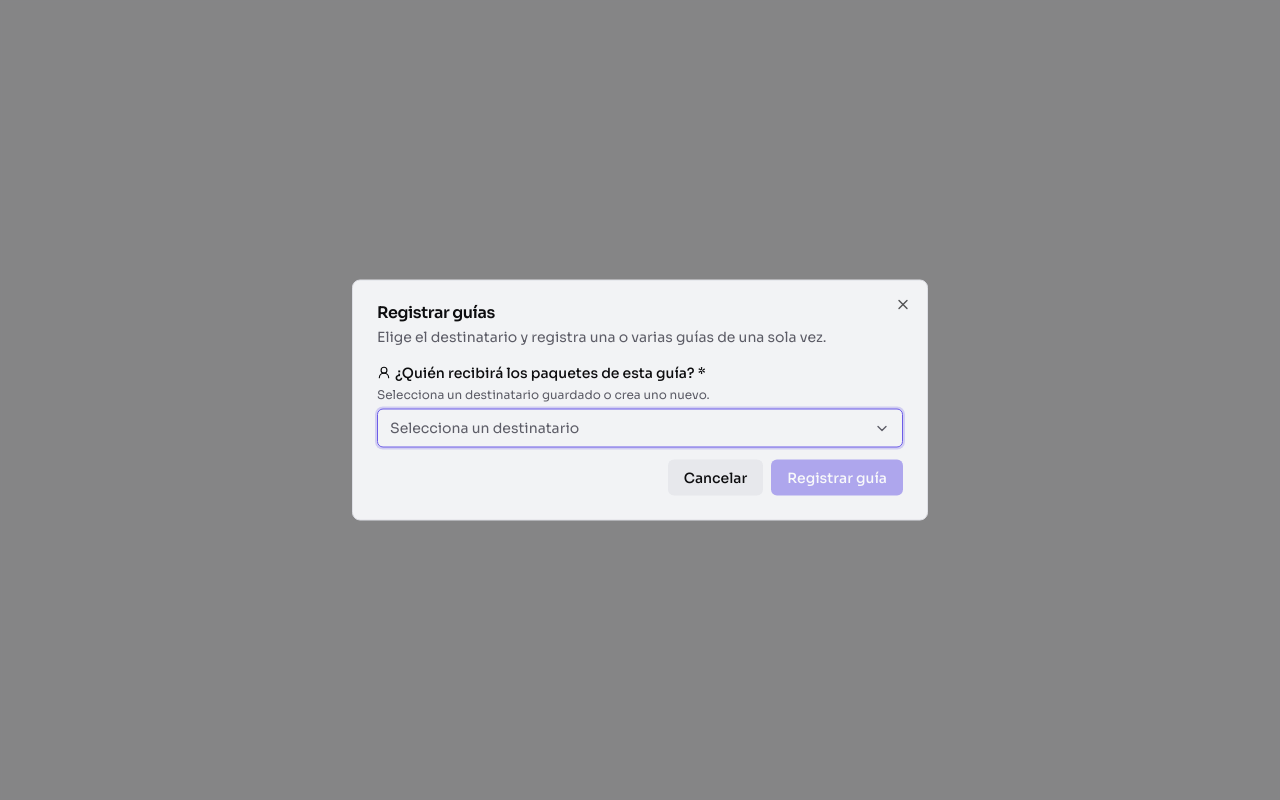
RegistrarMisGuiasDialog · ayuda de número de guía › incluye el disparador de ayuda y el texto breve bajo el campo
Click the button named "quién recibirá": [485, 428] box [377, 408, 903, 448]
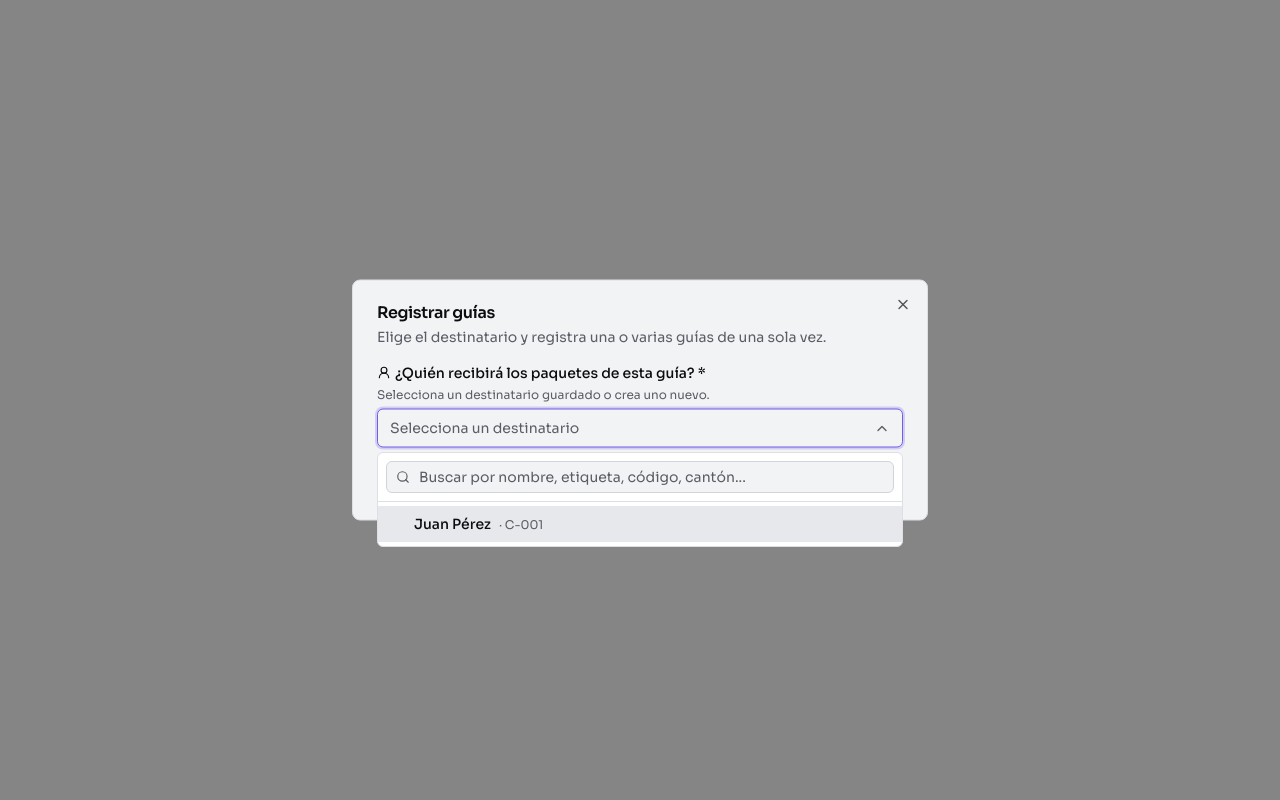
Click the text "Juan Pérez": [452, 524] box [414, 514, 491, 534]
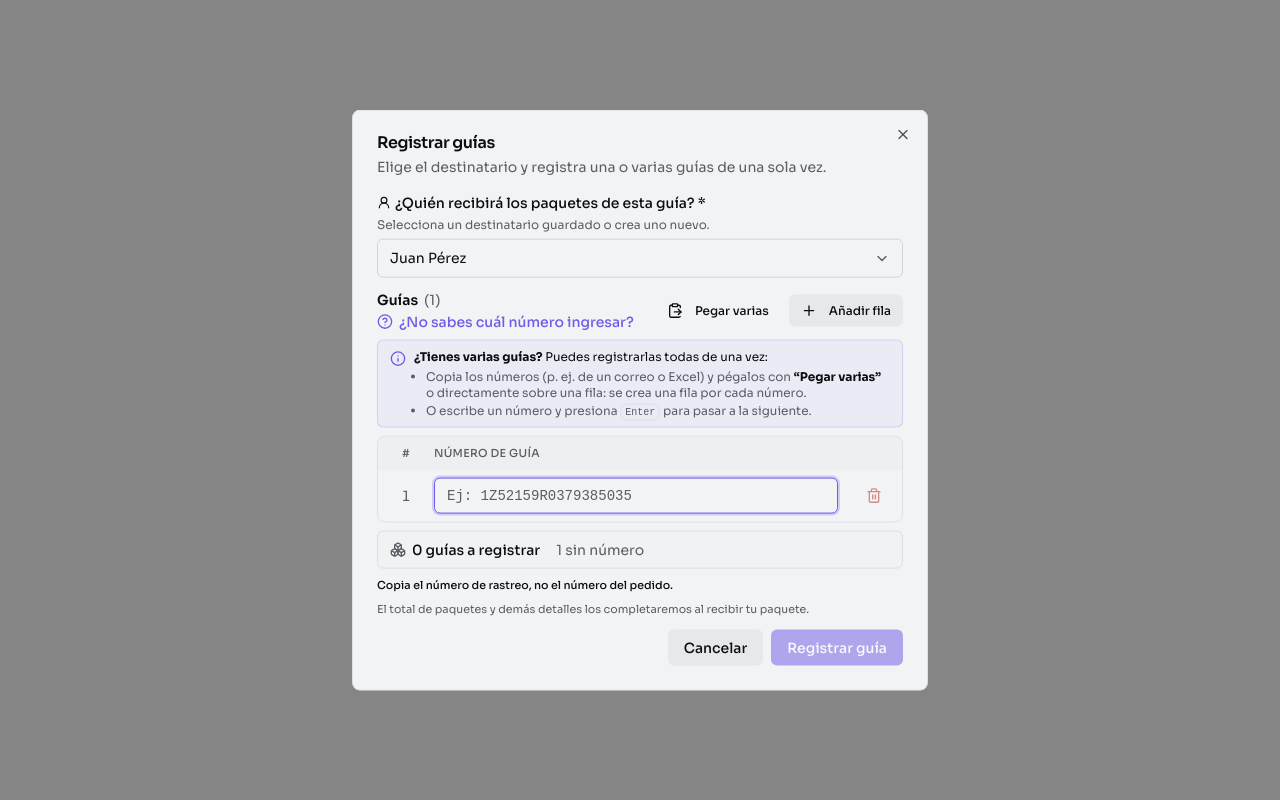
Expected: the button "¿No sabes cuál número ingresar?" is shown, [377, 312, 634, 332]
Expected: the text "Copia el número de rastreo, no el número del pedido." is shown, [377, 577, 673, 591]
